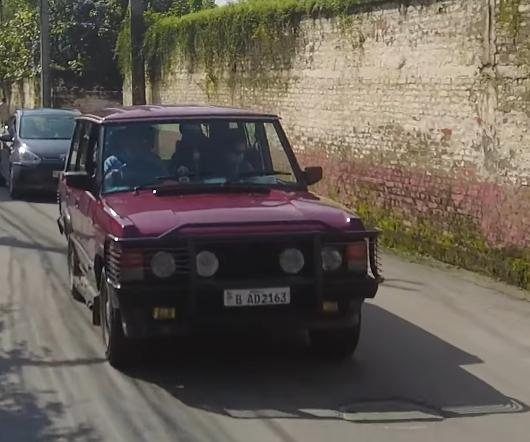SUV: (51, 102, 387, 371)
car: (0, 103, 89, 197)
